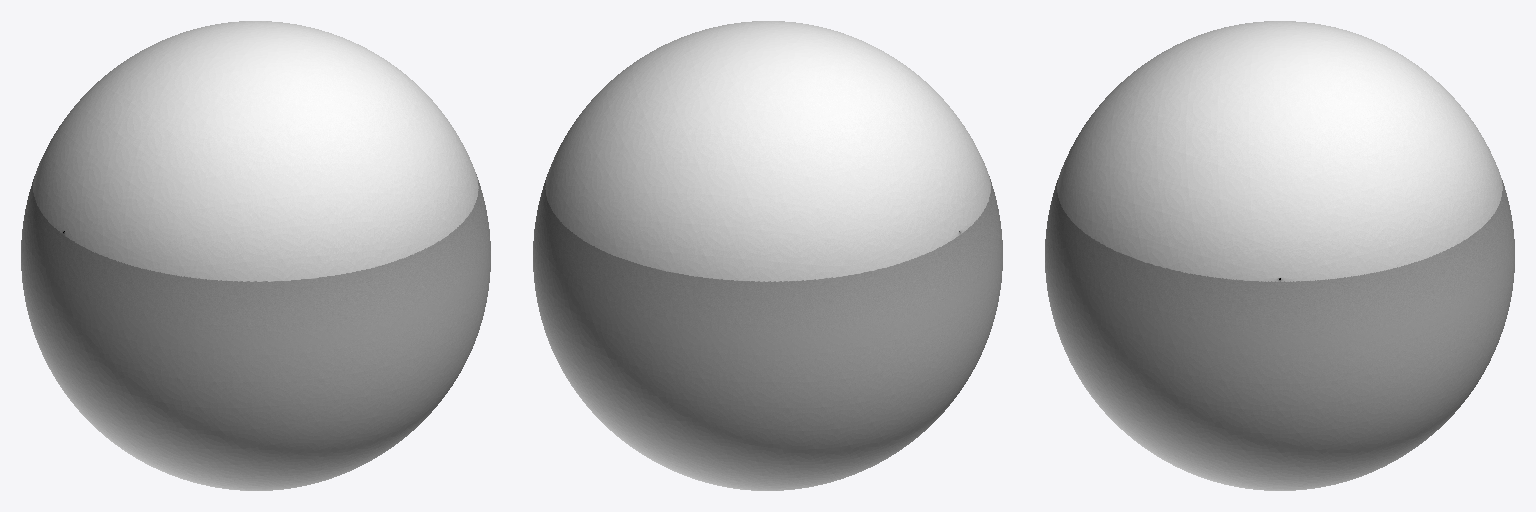
3 renders of one model, left to right at view 1: azimuth 30°, elevation 25°; view 2: azimuth 150°, elevation 25°; view 3: azimuth 270°, elevation 25°, orthographic.
Visible parts, largest first — view 1: Icosphere_Icosphere.002; view 2: Icosphere_Icosphere.002; view 3: Icosphere_Icosphere.002.
Boxes of the visible parts, x1=… form: Icosphere_Icosphere.002: x1=21, y1=21, x2=490, y2=490; Icosphere_Icosphere.002: x1=533, y1=21, x2=1002, y2=490; Icosphere_Icosphere.002: x1=1045, y1=21, x2=1514, y2=490.
Size of the model in its own units: 1.99 by 1.99 by 1.99.
Materials: 1 (1 with a texture image).